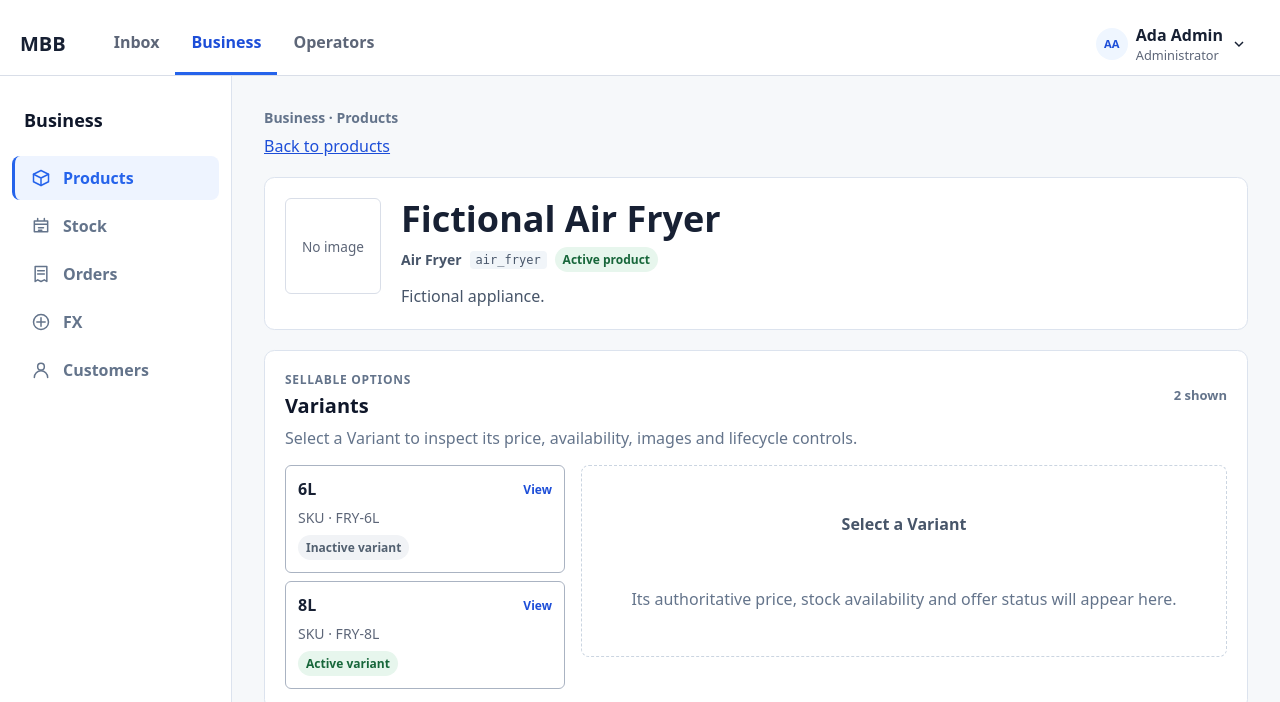
Test case: Product lifecycle controls › Activate affects only the selected variant and rereads its Offer
Click the button with aria-label "6L · FRY-6L".
click(339, 518)  # box [285,465,565,573]
(page scrolled)
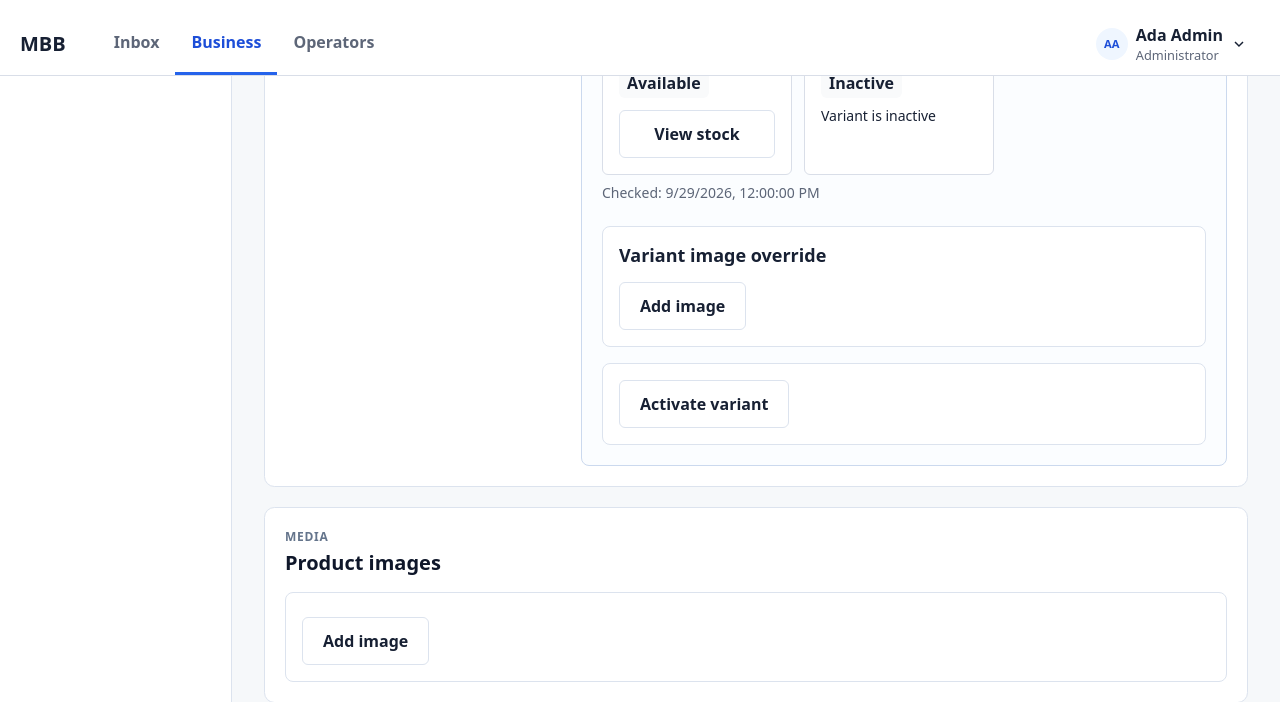
Click the button "Activate variant".
click(704, 404)  # box [619,380,790,428]
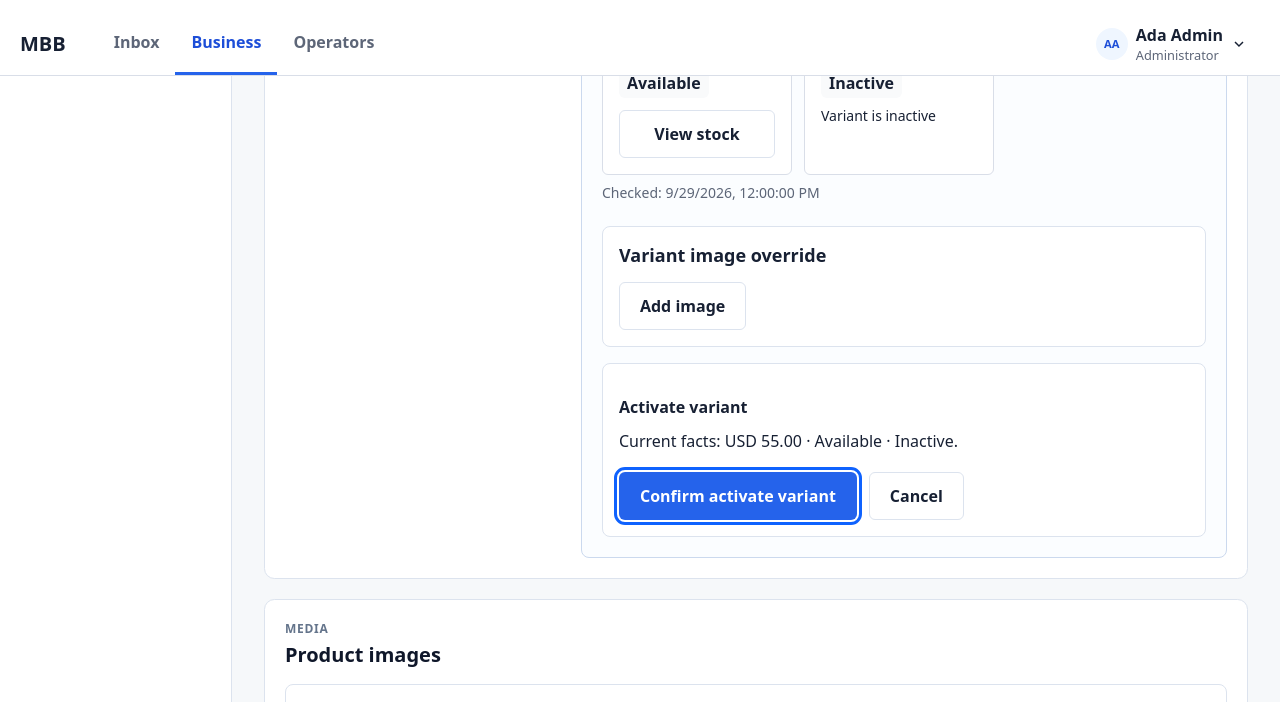
Expected: the text "Current facts: USD 55.00 · Available · Inactive." is shown, [619,430,958,452]
Click the button "Confirm activate variant".
click(738, 496)  # box [619,472,857,520]
(page scrolled)
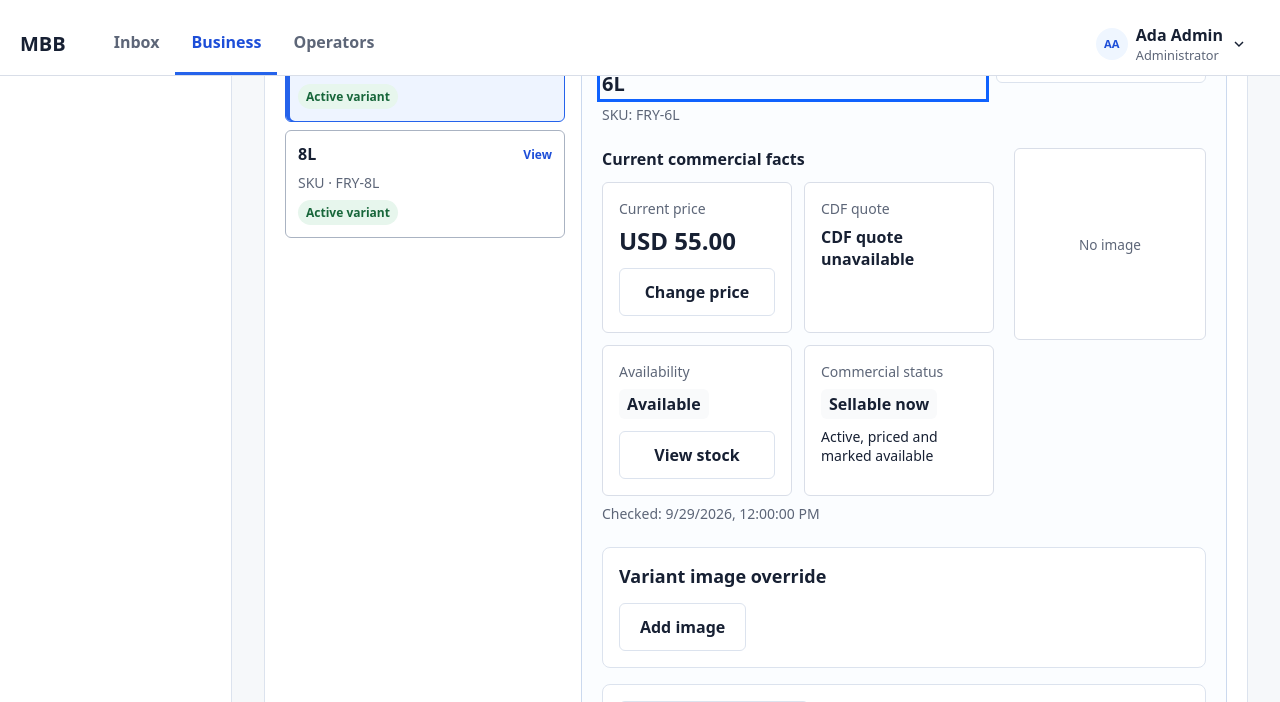
Expected: the text "Sellable now" is shown, [821,389,937,419]
